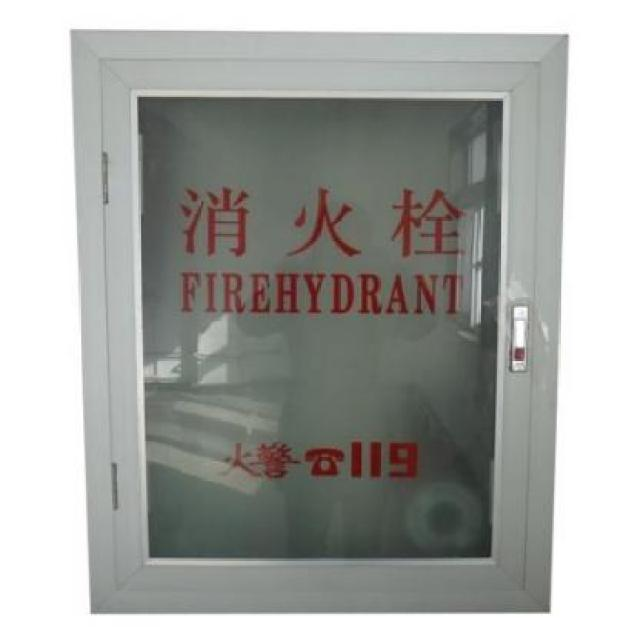firehydrant: (65, 22, 573, 623)
